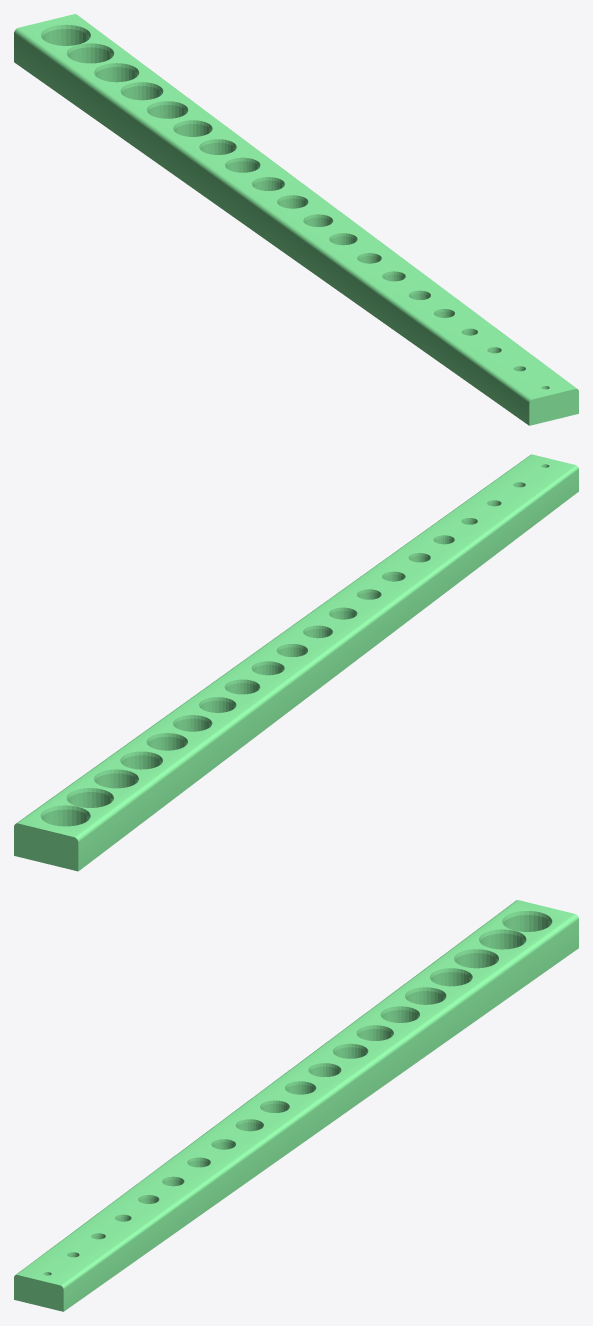
Rendered from GreenPlatform.fbx.
The picture shows the model from 3 angles, top to bottom: view 1: azimuth 30°, elevation 25°; view 2: azimuth 150°, elevation 25°; view 3: azimuth 330°, elevation 25°; orthographic projection.
Visible parts, largest first — view 1: Cube.005; view 2: Cube.005; view 3: Cube.005.
Boxes of the visible parts, x1=… form: Cube.005: x1=14, y1=14, x2=578, y2=425; Cube.005: x1=14, y1=454, x2=578, y2=871; Cube.005: x1=14, y1=900, x2=578, y2=1311.
Size of the model in its own units: 368 by 182 by 5035.
1 material, 1 textured.
